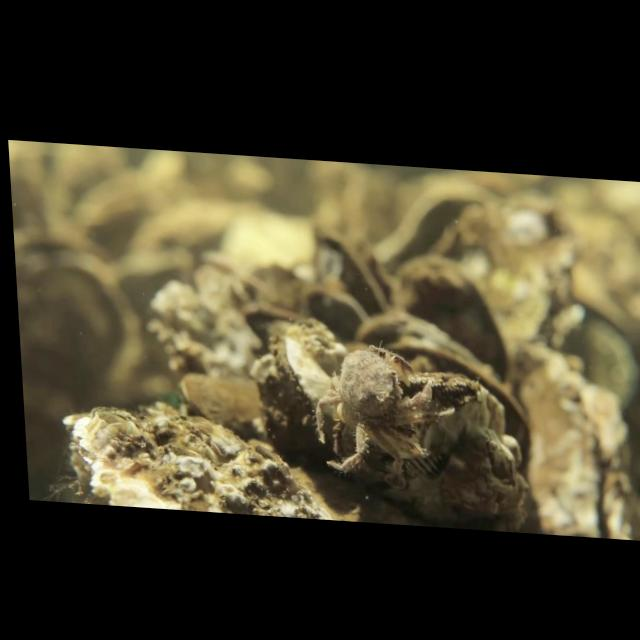Oyster-Closed: (56, 394, 344, 519), (515, 346, 640, 537), (269, 339, 338, 433)
